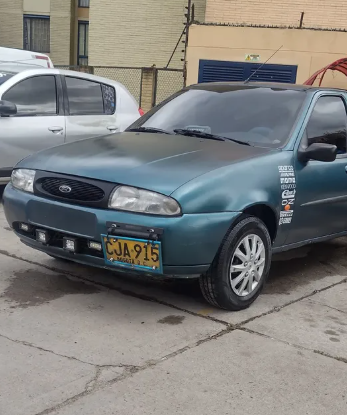placa: (100, 234, 164, 274)
